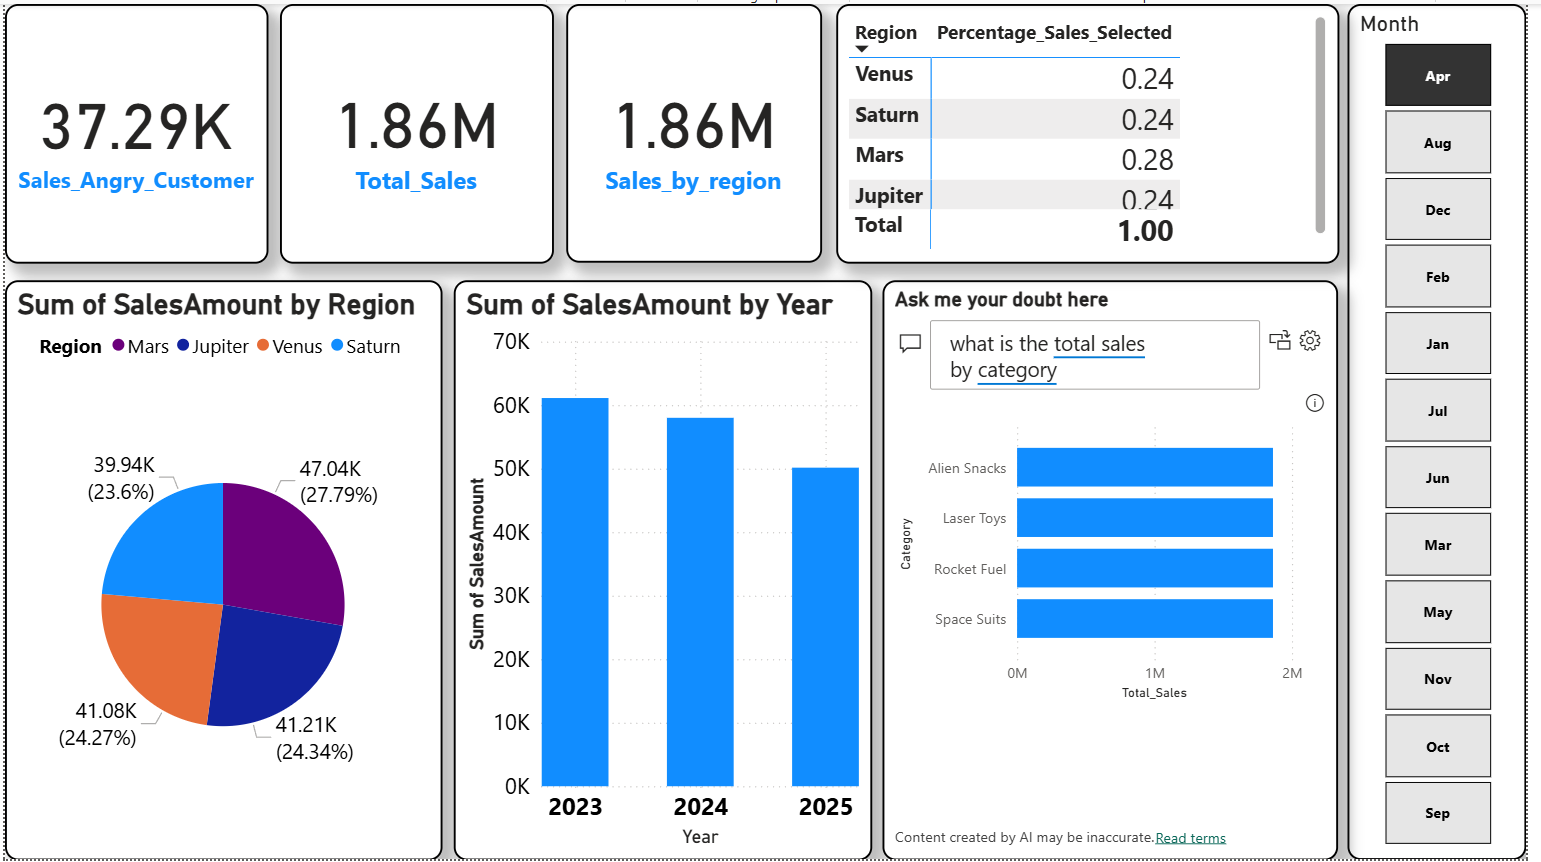

The dashboard page shown, as its layout file describes it:
{"tool":"powerbi","page":{"name":"Page 1","canvas":[1280,720],"ordinal":0},"visuals":[{"type":"card","fields":{"Values":["Sales (2).Sales_Angry_Customer"]},"box":[0,0,221.7,218.1],"z":0},{"type":"card","fields":{"Values":["Sales (2).Total_Sales"]},"box":[231.3,0,230.1,218.1],"z":1000},{"type":"slicer","title":"Month","fields":{"Values":["Sales (2).Month"]},"box":[1129.7,0,150,719.9],"z":2000},{"type":"pieChart","fields":{"Category":["Sales (2).Region"],"Y":["Sum(Sales (2).SalesAmount)"]},"box":[0,232.3,367.9,487.7],"z":3000},{"type":"clusteredColumnChart","fields":{"Category":["Sales (2).Year"],"Y":["Sum(Sales (2).SalesAmount)"]},"box":[377.5,232.5,352.4,487.8],"z":4000},{"type":"card","fields":{"Values":["Sales (2).Sales_by_region"]},"box":[471.8,0,215,217.9],"z":5000},{"type":"qnaVisual","title":"Ask me your doubt here","box":[738.3,232.5,383.5,487.8],"z":6000},{"type":"pivotTable","fields":{"Rows":["Sales (2).Region"],"Values":["Sales (2).Percentage_Sales_Selected"]},"box":[698.7,0,423.1,218.1],"z":7000}]}

Visuals, with their boxes in screenshot pixels (x1, y1, x2, y2), scaled from the page's 1280x720 canvas onto the 1541x862 screenshot:
card - Sales (2).Sales_Angry_Customer: rect(0, 0, 267, 261)
card - Sales (2).Total_Sales: rect(278, 0, 555, 261)
"Month" slicer: rect(1360, 0, 1540, 861)
pieChart - Sales (2).Region x Sum(Sales (2).SalesAmount): rect(0, 278, 443, 861)
clusteredColumnChart - Sales (2).Year x Sum(Sales (2).SalesAmount): rect(454, 278, 879, 861)
card - Sales (2).Sales_by_region: rect(568, 0, 827, 261)
"Ask me your doubt here" qnaVisual: rect(889, 278, 1351, 861)
pivotTable - Sales (2).Region x Sales (2).Percentage_Sales_Selected: rect(841, 0, 1351, 261)
